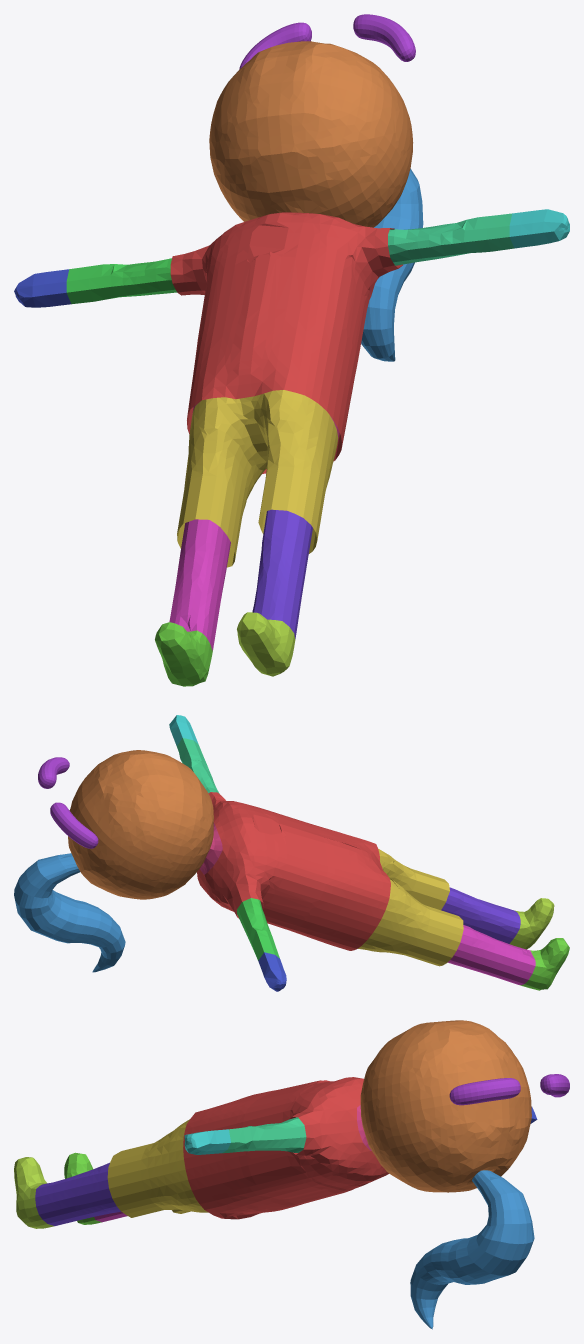
File: seg_figure_groundtruth.glb
The picture shows the model from 3 angles, top to bottom: view 1: azimuth 30°, elevation 25°; view 2: azimuth 150°, elevation 25°; view 3: azimuth 270°, elevation 25°; orthographic projection. The views are drawn at different scales.
Visible parts, largest first — view 1: world; view 2: world; view 3: world.
Boxes of the visible parts, box(x1,y1,x2,y2) form: world: box(14, 14, 569, 686); world: box(14, 715, 569, 991); world: box(14, 1020, 569, 1329).
Size of the model in its own units: 1.39 by 1.04 by 1.56.
